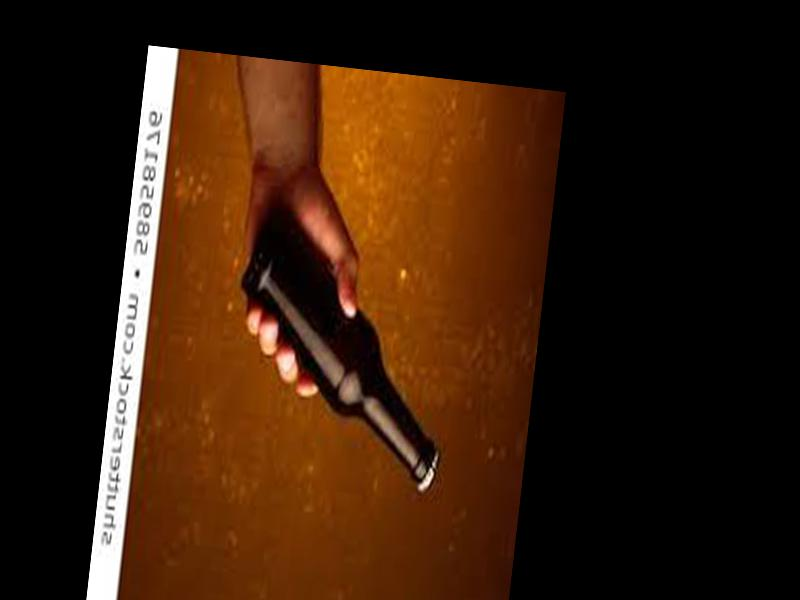Beer: (220, 194, 467, 497)
